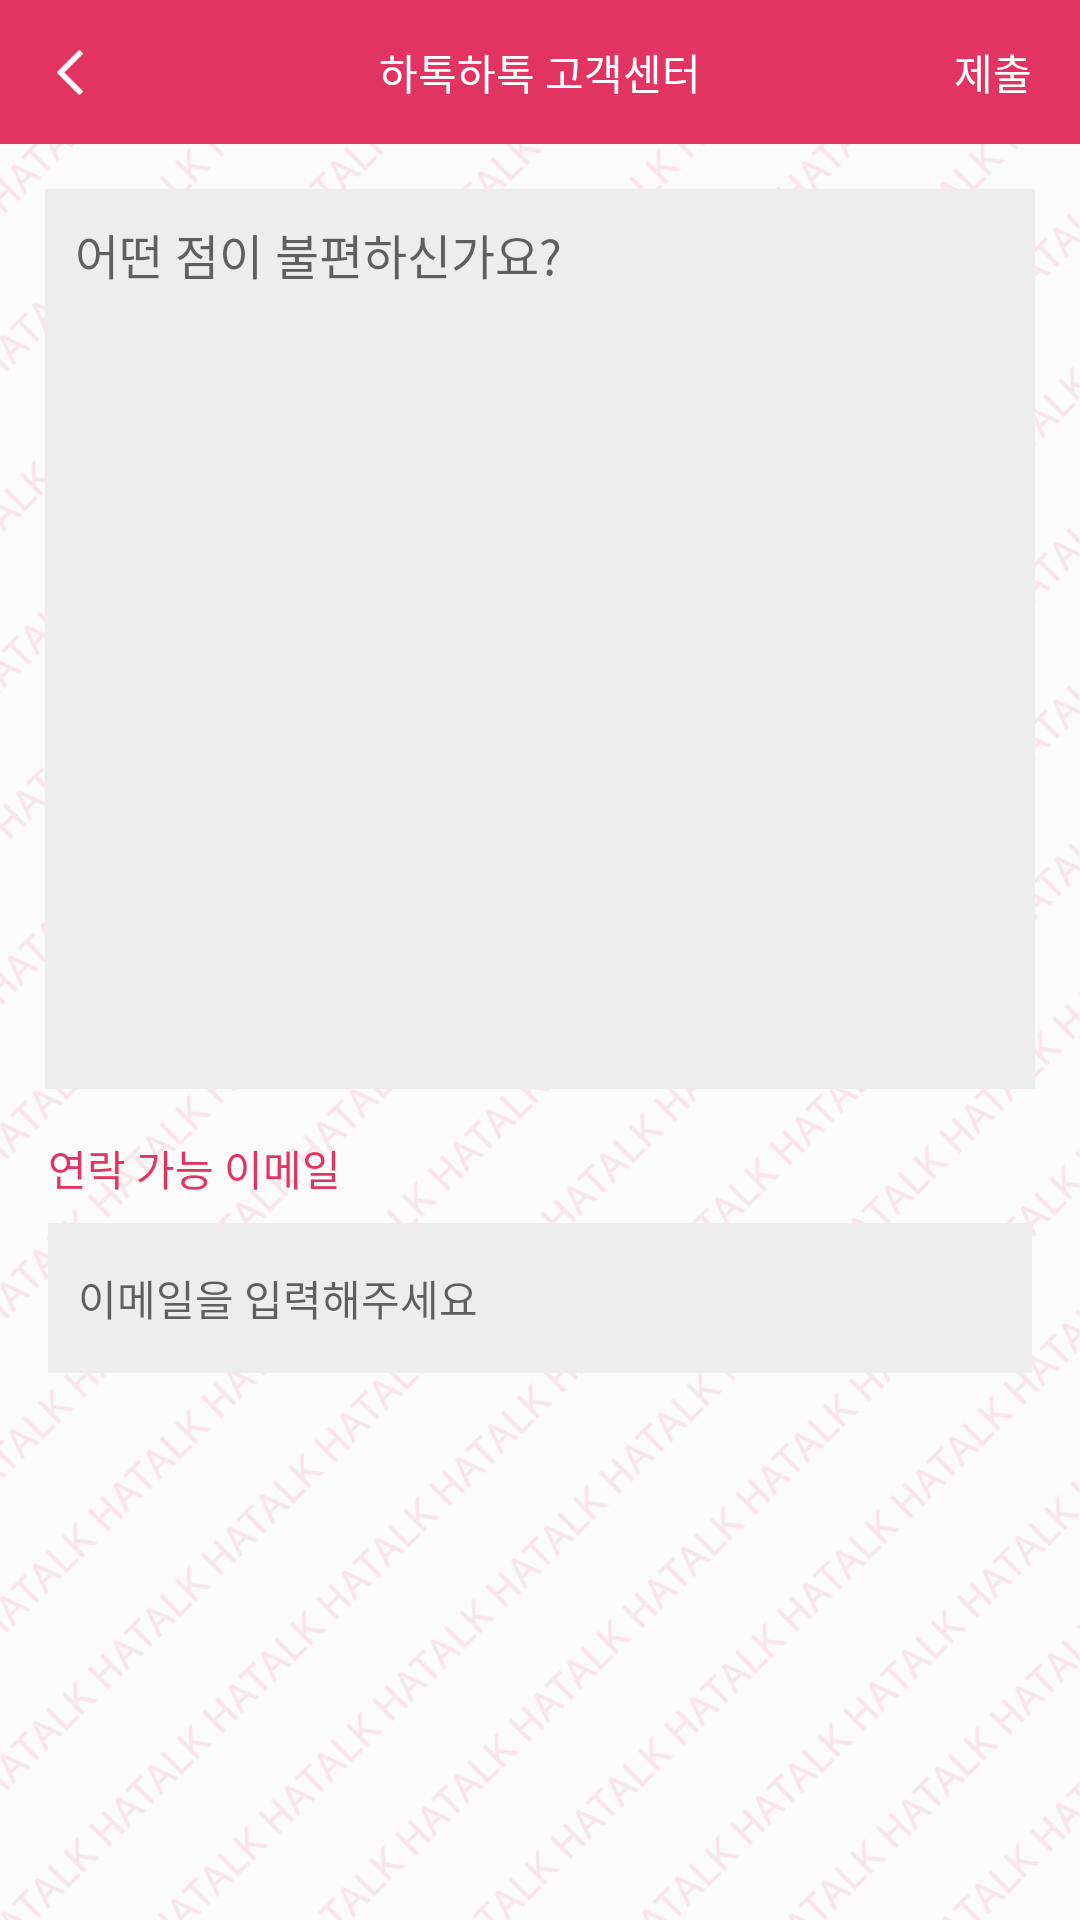

Icons on this 1080 x 1920 Android screen, each with the point to tap as (x=x, y=y):
global back: (x=70, y=72)
